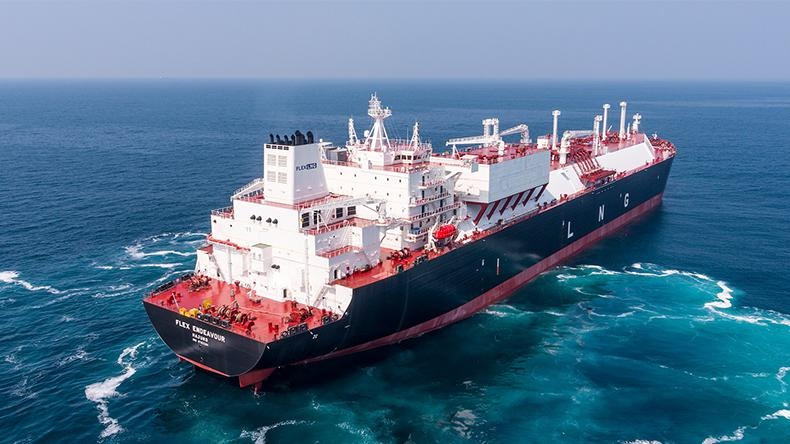Cargoship: (140, 99, 678, 382)
